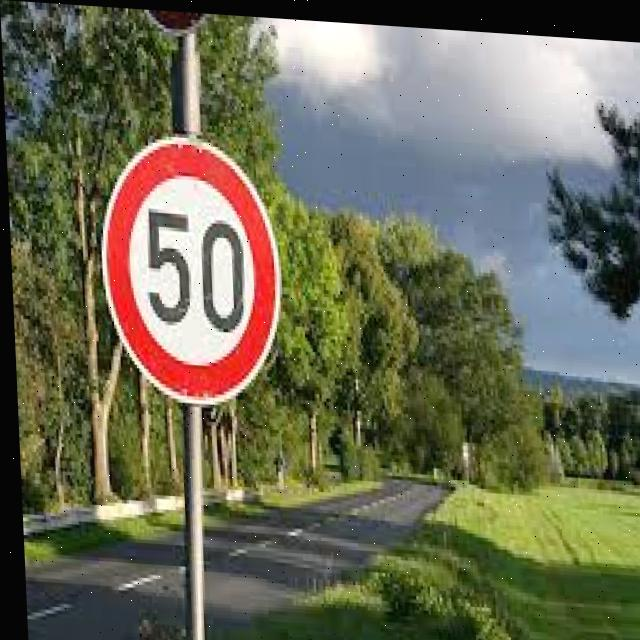Speed limit 50: (93, 124, 285, 410)
